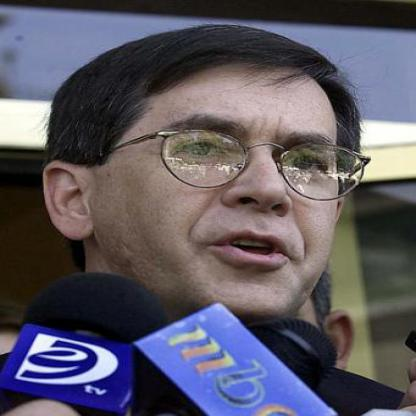face: (88, 34, 367, 333)
